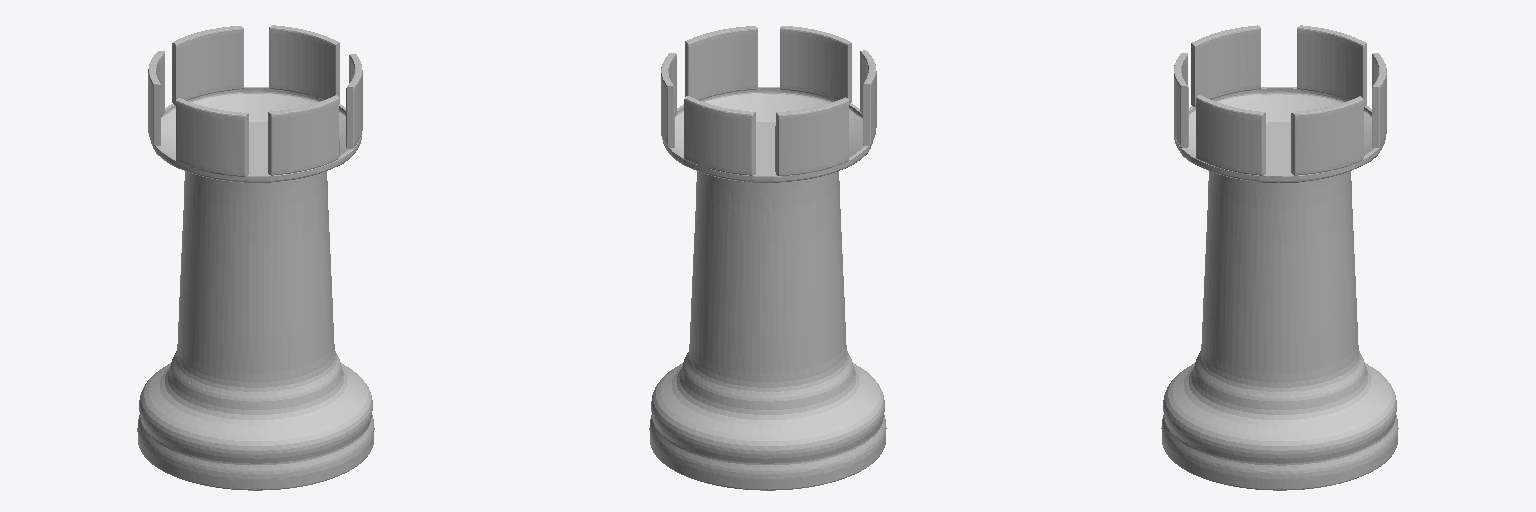
File: towerFigure.obj
3 views of the same model, side by side, from view 1: azimuth 30°, elevation 25°; view 2: azimuth 150°, elevation 25°; view 3: azimuth 270°, elevation 25° (orthographic).
Parts seen in each view (by area): view 1: Cylinder.017_Cylinder.037; view 2: Cylinder.017_Cylinder.037; view 3: Cylinder.017_Cylinder.037.
Boxes of the visible parts, <box> form: Cylinder.017_Cylinder.037: <box>137,25,374,490</box>; Cylinder.017_Cylinder.037: <box>649,26,886,490</box>; Cylinder.017_Cylinder.037: <box>1161,25,1398,490</box>.
Size of the model in its own units: 0.436 by 0.7561 by 0.436.